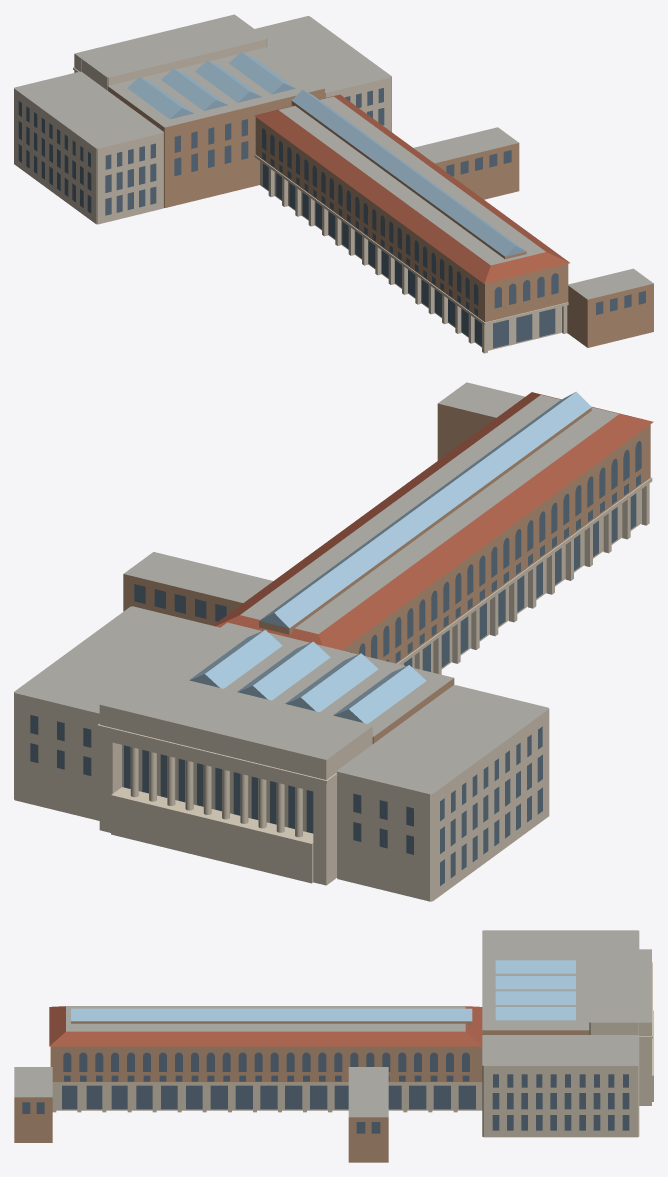
File: msp-union-depot.glb
3 renders of one model, top to bottom at view 1: azimuth 30°, elevation 25°; view 2: azimuth 150°, elevation 25°; view 3: azimuth 270°, elevation 25°, orthographic. The views are drawn at different scales.
Parts seen in each view (by area): view 1: Saint Paul Union Depot; view 2: Saint Paul Union Depot; view 3: Saint Paul Union Depot.
Boxes of the visible parts, box(x1,y1,x2,y2) form: Saint Paul Union Depot: box(14, 14, 653, 353); Saint Paul Union Depot: box(14, 382, 653, 901); Saint Paul Union Depot: box(14, 930, 653, 1162).
Bounding box in the file's own units: 114 × 28 × 191.
